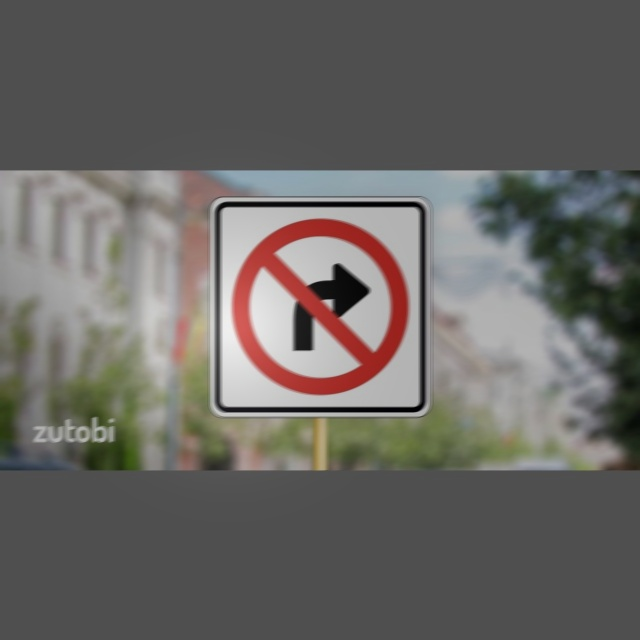Right_Turn_Prohibited: (229, 211, 417, 401)
